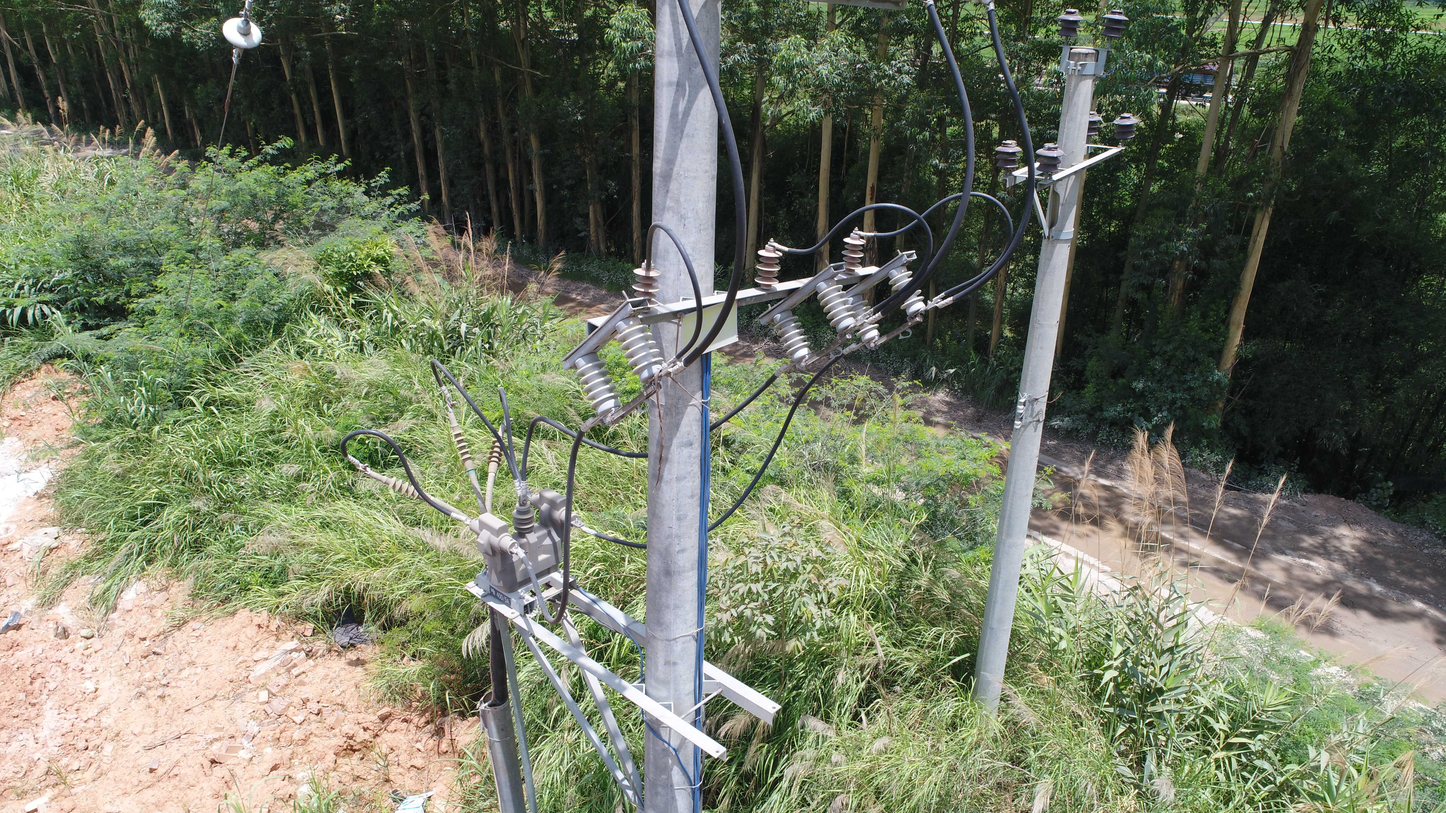异物: (652, 367, 711, 492)
